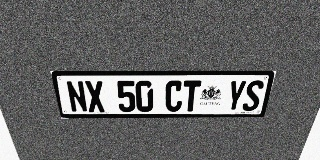0: (135, 81, 153, 112)
5: (116, 81, 136, 112)
C: (165, 80, 183, 112)
N: (65, 81, 88, 112)
S: (241, 80, 265, 111)
T: (182, 80, 201, 112)
X: (84, 81, 106, 112)
Y: (225, 80, 247, 111)
